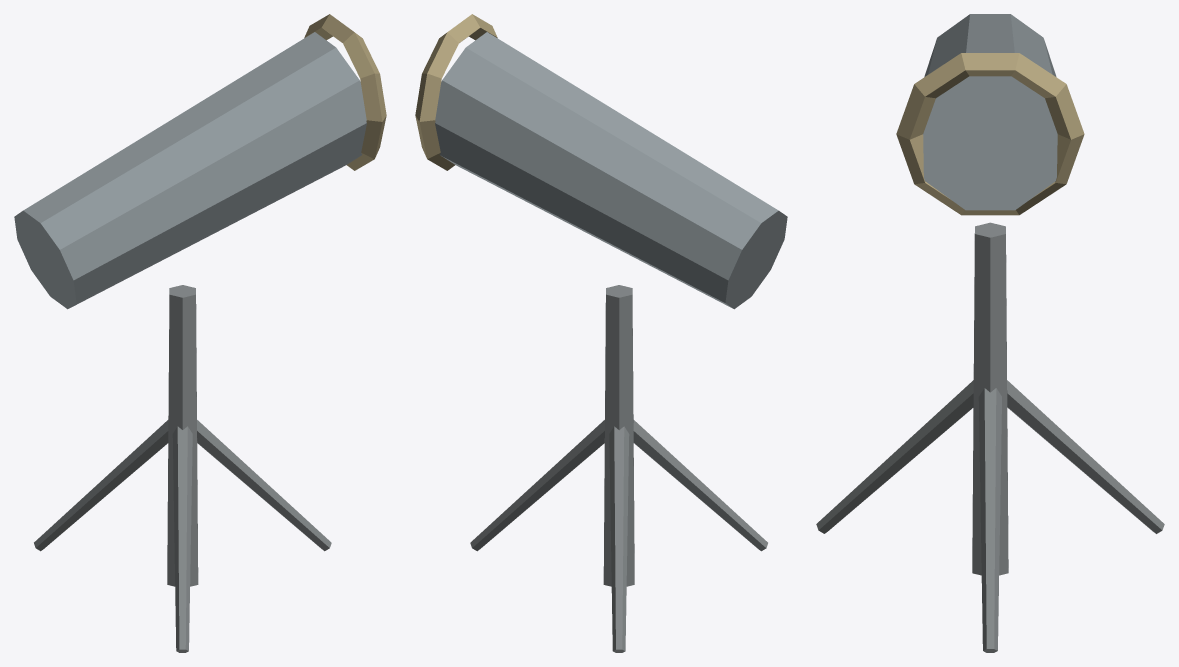
File: map-exclusive-v3__highland_06.glb
3 renders of one model, left to right at view 1: azimuth 30°, elevation 25°; view 2: azimuth 150°, elevation 25°; view 3: azimuth 270°, elevation 25°, orthographic. The views are drawn at different scales.
Visible parts, largest first — view 1: highland_06; view 2: highland_06; view 3: highland_06.
Part boxes in pixels (x1=…): highland_06: x1=14, y1=14, x2=386, y2=652; highland_06: x1=415, y1=14, x2=787, y2=652; highland_06: x1=816, y1=14, x2=1164, y2=652.
Size of the model in its own units: 1.48 by 2.25 by 1.17.
